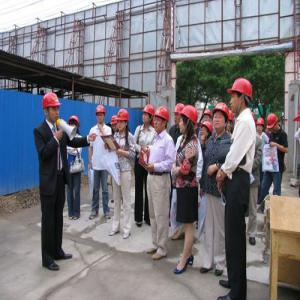red: (230, 78, 253, 114), (181, 105, 200, 136), (213, 104, 230, 135), (43, 93, 61, 122), (155, 107, 170, 135), (116, 109, 131, 134), (142, 105, 156, 126), (267, 113, 279, 134), (175, 104, 185, 127), (96, 106, 107, 126), (201, 121, 213, 139), (70, 115, 80, 134), (112, 115, 120, 134), (257, 118, 265, 134), (204, 110, 213, 123)
